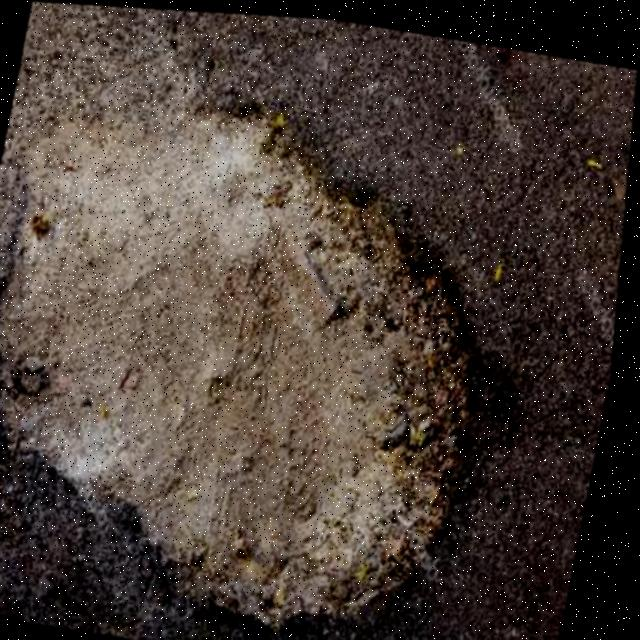Pothole: (0, 34, 588, 640)
